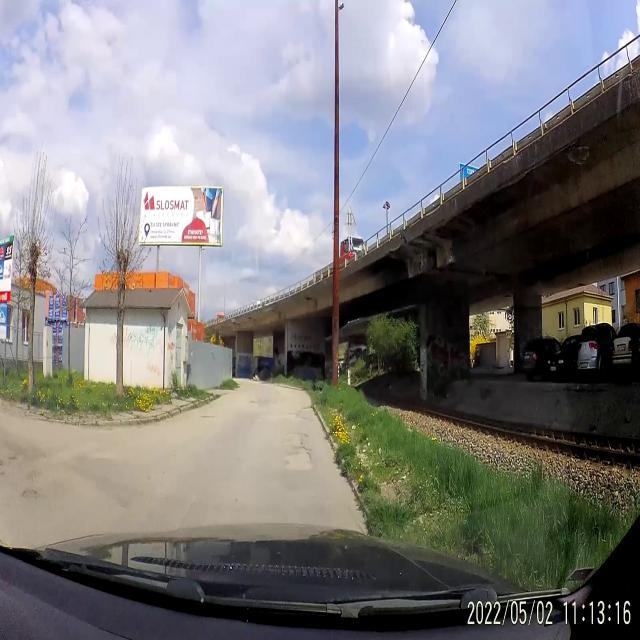Pothole: (282, 429, 318, 481), (12, 459, 44, 511), (286, 391, 316, 426), (248, 394, 263, 410), (200, 411, 217, 424)
